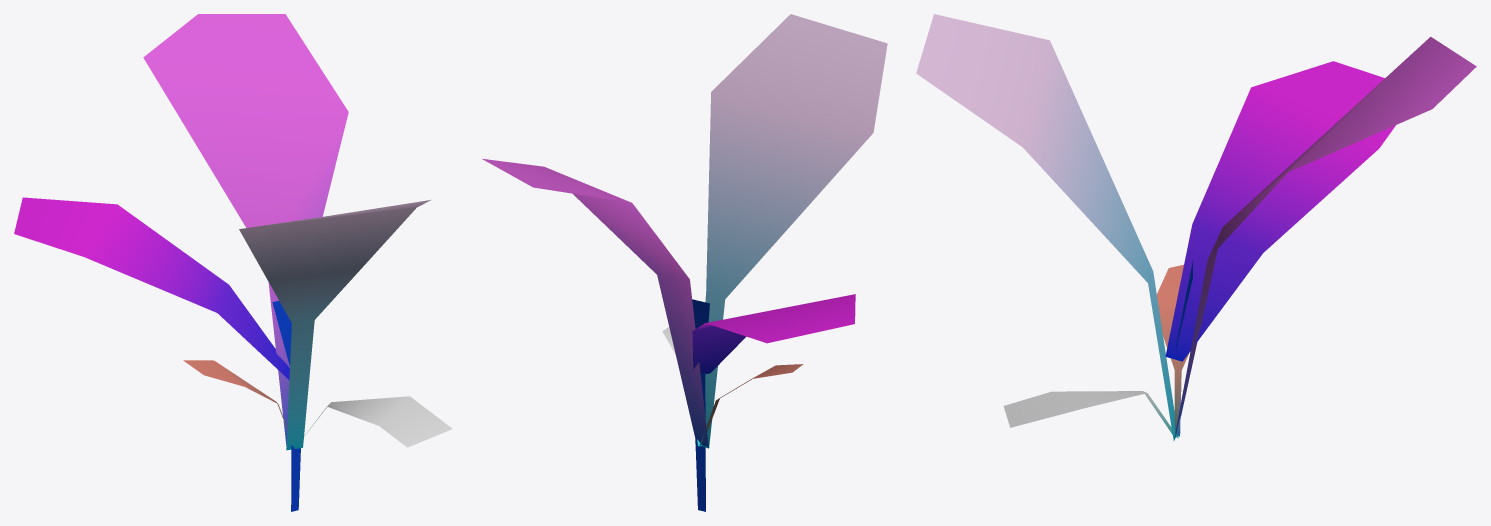
The model's file is Curbside_Weeds_ujzjfexja_Mid_ujzjfexja_VarA_LOD1.fbx.
The picture shows the model from 3 angles, left to right: view 1: azimuth 30°, elevation 25°; view 2: azimuth 150°, elevation 25°; view 3: azimuth 270°, elevation 25°; orthographic projection. The views are drawn at different scales.
Parts seen in each view (by area): view 1: _ospa_VarA_LOD2; view 2: _ospa_VarA_LOD2; view 3: _ospa_VarA_LOD2.
Boxes of the visible parts, box(x1,y1,x2,y2) form: _ospa_VarA_LOD2: box(14, 14, 452, 511); _ospa_VarA_LOD2: box(482, 14, 887, 511); _ospa_VarA_LOD2: box(916, 14, 1476, 440).
Bounding box in the file's own units: 5.89 × 7.04 × 7.75.
